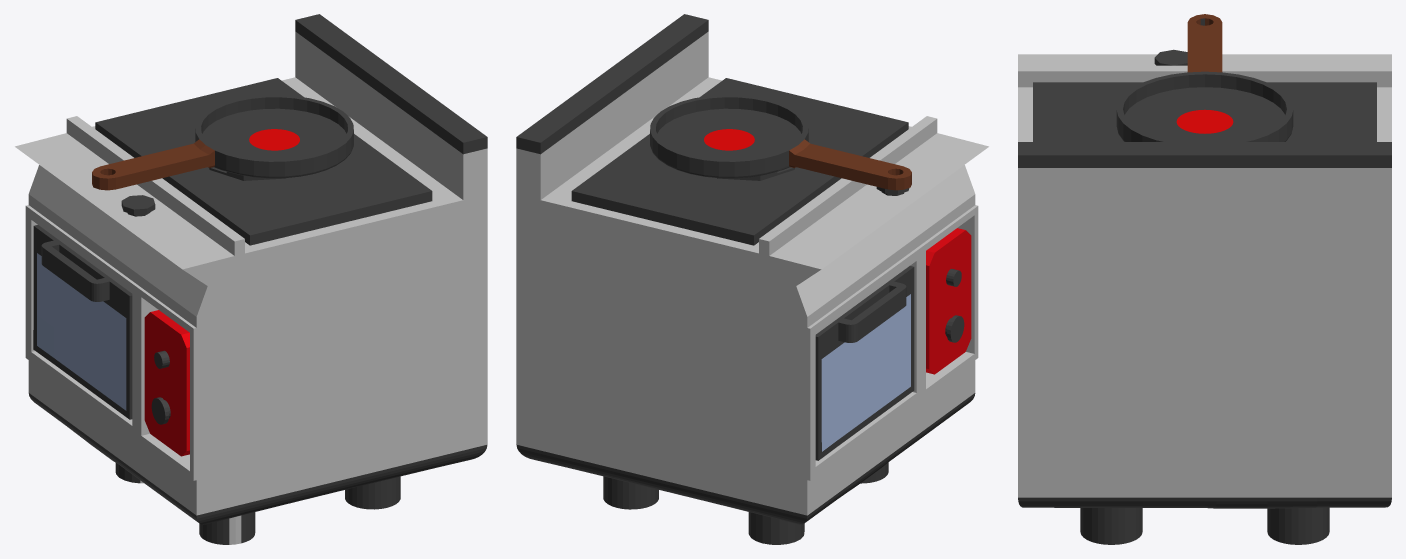
The model's file is Stove_Station.fbx.
The picture shows the model from 3 angles, left to right: view 1: azimuth 30°, elevation 25°; view 2: azimuth 150°, elevation 25°; view 3: azimuth 270°, elevation 25°; orthographic projection. The views are drawn at different scales.
Parts seen in each view (by area): view 1: Stove, Frying Pan; view 2: Stove, Frying Pan; view 3: Stove, Frying Pan.
Part boxes in pixels (x1=…): Stove: x1=15, y1=14, x2=487, y2=544; Frying Pan: x1=92, y1=95, x2=353, y2=190; Stove: x1=516, y1=14, x2=988, y2=544; Frying Pan: x1=650, y1=95, x2=911, y2=190; Stove: x1=1018, y1=49, x2=1391, y2=544; Frying Pan: x1=1116, y1=14, x2=1293, y2=141.
Size of the model in its own units: 213 by 246 by 200.
